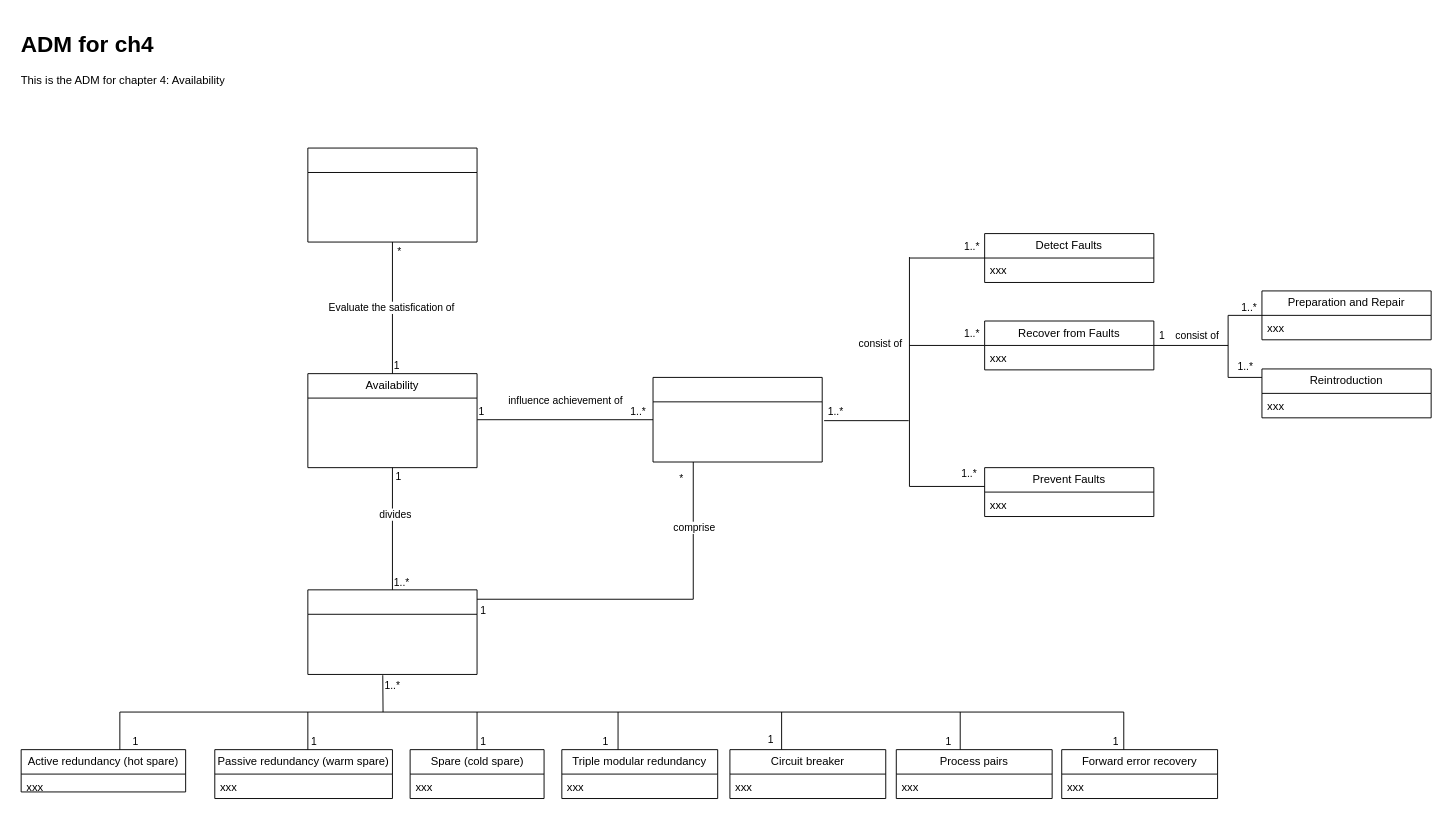
Image size: 1448x817. Some labels were removed from this diagram. The centre of each missing label's shape, as x and y in pixels:
Availability Tactics: pixel 737 419
Patterns: pixel 392 631
Tactic-Based Questionnaries: pixel 392 194
